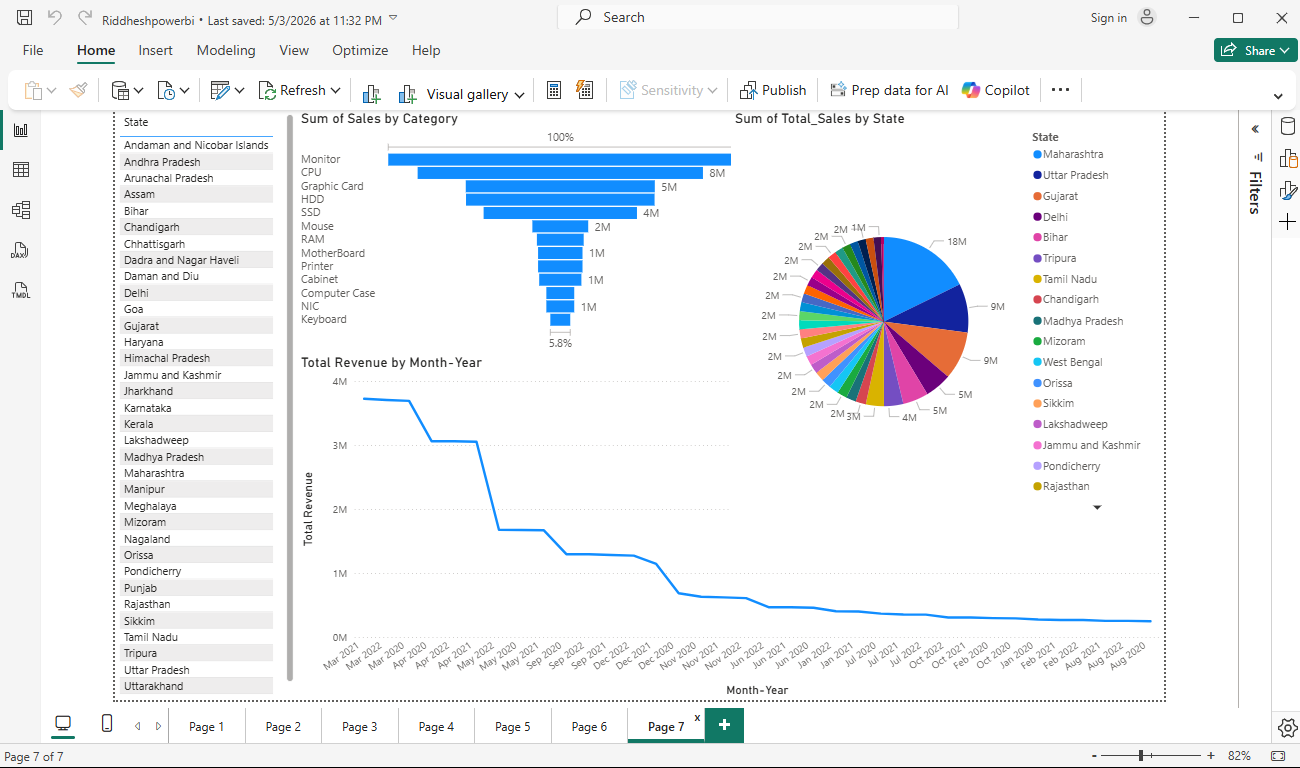

What the dashboard file says about the page in this screenshot:
{"tool":"powerbi","page":{"name":"Page 7","canvas":[1280,720],"ordinal":6},"visuals":[{"type":"funnel","fields":{"Category":["Sales_Data.Category"],"Y":["Sum(Sales_Data.Sales)"]},"box":[222.5,0,541.2,297.5],"z":0},{"type":"tableEx","fields":{"Values":["State_list.State"]},"box":[0,0,222.5,720],"z":2},{"type":"lineChart","fields":{"Category":["CALENDER.Month-Year"],"Y":["Sales_Data.Total Revenue"]},"box":[222.5,297.5,1057.5,422.5],"z":3},{"type":"pieChart","fields":{"Category":["State_list.State"],"Y":["Sum(Sales_Data.Total_Sales)"]},"box":[751.2,0,528.8,497.5],"z":4}]}

Visuals, with their boxes on the page's 1280x720 design canvas (x1, y1, x2, y2). These are canvas units, not pixel positions in the 1300x768 screenshot, which may show the page scaled, cropped or inside an application window:
funnel - Sales_Data.Category x Sum(Sales_Data.Sales): detection(222, 0, 764, 298)
tableEx - State_list.State: detection(0, 0, 222, 720)
lineChart - CALENDER.Month-Year x Sales_Data.Total Revenue: detection(222, 298, 1280, 720)
pieChart - State_list.State x Sum(Sales_Data.Total_Sales): detection(751, 0, 1280, 498)
